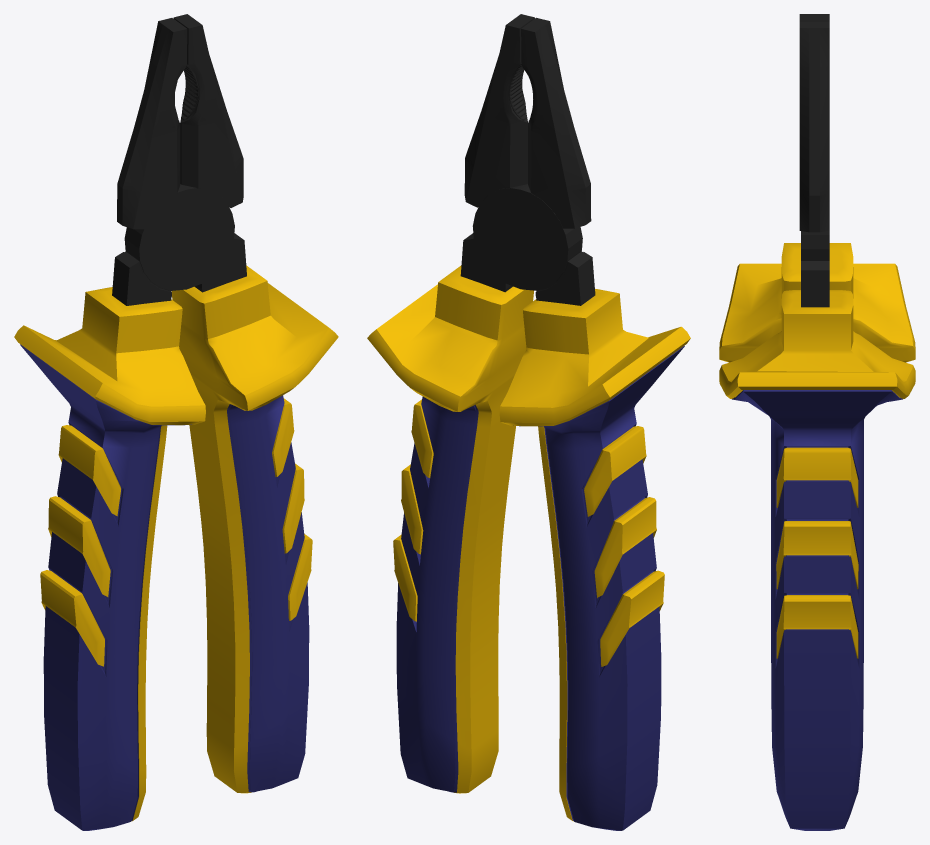
File: Tang Kombinasi.fbx
3 renders of one model, left to right at view 1: azimuth 30°, elevation 25°; view 2: azimuth 150°, elevation 25°; view 3: azimuth 270°, elevation 25°, orthographic.
Parts seen in each view (by area): view 1: Tang Kombinasi_L, Tang Kombinasi_R; view 2: Tang Kombinasi_L, Tang Kombinasi_R; view 3: Tang Kombinasi_L, Tang Kombinasi_R.
Boxes of the visible parts, x1,y1,x2,y2 form: Tang Kombinasi_L: (117,18,338,793); Tang Kombinasi_R: (14,14,243,830); Tang Kombinasi_L: (367,17,591,793); Tang Kombinasi_R: (464,14,690,830); Tang Kombinasi_L: (719,14,915,830); Tang Kombinasi_R: (719,21,915,362).
Size of the model in its own units: 6.07 by 18.62 by 4.32.
